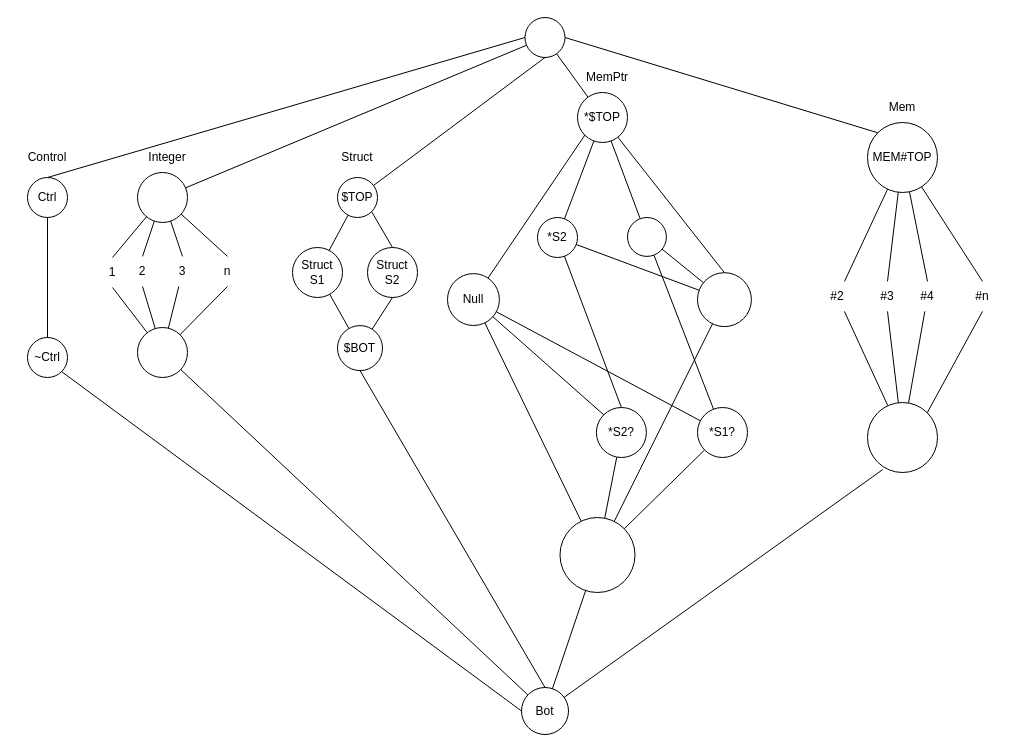
Image size: 1024x752. Some labels were removed from this diagram. Here are the shapes that lost their labels. From the top down, the centre of each, then its label:
At [544,37]: "Top".
At [162,197]: "Int Top".
At [646,236]: "*S1".
At [723,299]: "*void".
At [162,352]: "Int Bot".
At [902,437]: "MEM#BOT".
At [597,554]: "*$BOT?".
